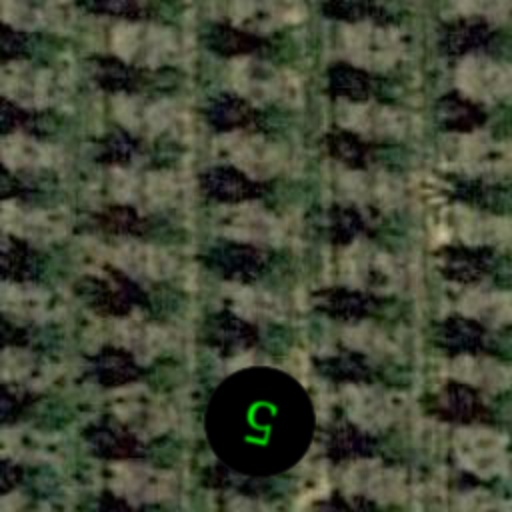circle: (192, 354, 328, 490)
